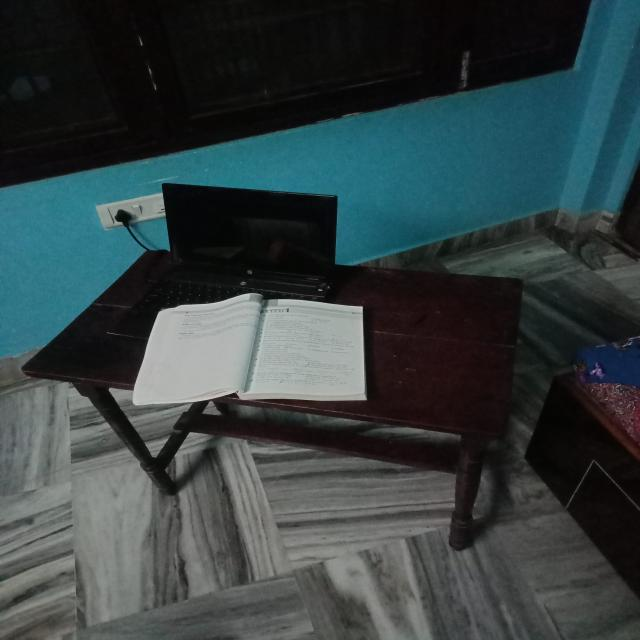book: (146, 296, 367, 406)
laptop: (118, 183, 337, 334)
